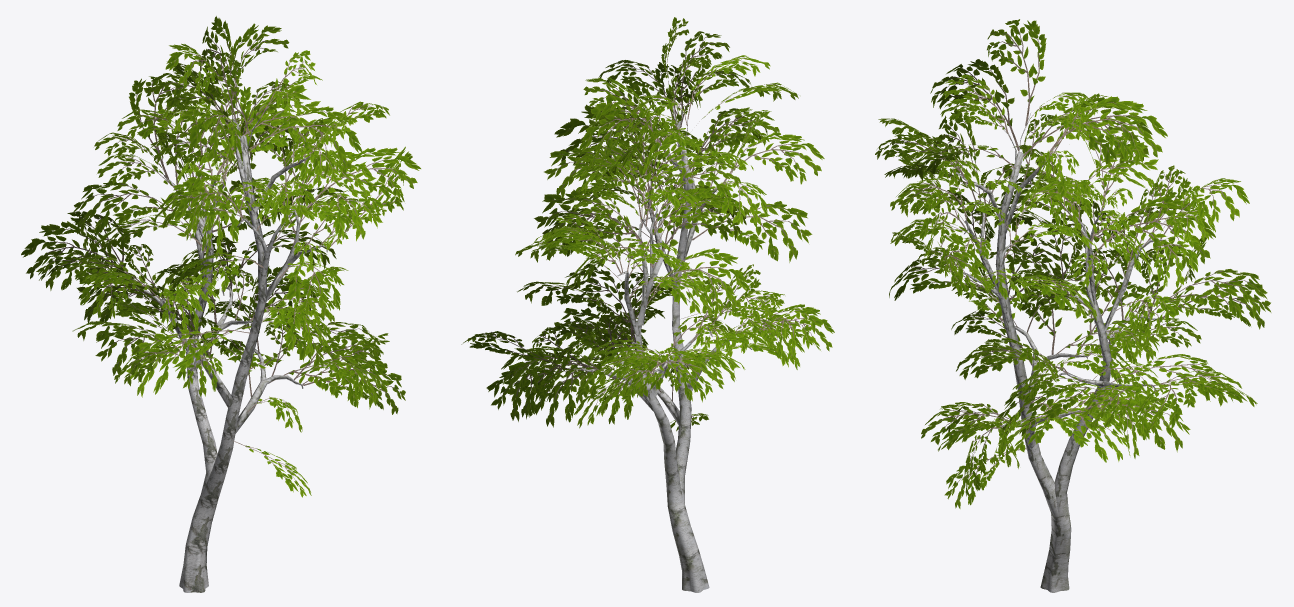
The model's file is birch_tree.dae.
The picture shows the model from 3 angles, left to right: view 1: azimuth 30°, elevation 25°; view 2: azimuth 150°, elevation 25°; view 3: azimuth 270°, elevation 25°; orthographic projection. The views are drawn at different scales.
Parts seen in each view (by area): view 1: Tree_1, Tree_0; view 2: Tree_1, Tree_0; view 3: Tree_1, Tree_0.
Boxes of the visible parts, left/top/right/bottom form: Tree_1: left=21, top=16, right=420, bottom=497; Tree_0: left=132, top=100, right=327, bottom=592; Tree_1: left=461, top=17, right=834, bottom=431; Tree_0: left=571, top=99, right=752, bottom=592; Tree_1: left=875, top=19, right=1271, bottom=508; Tree_0: left=953, top=113, right=1165, bottom=592.
Size of the model in its own units: 3.34 by 3.68 by 5.45.
Materials: 2 (2 with a texture image).
